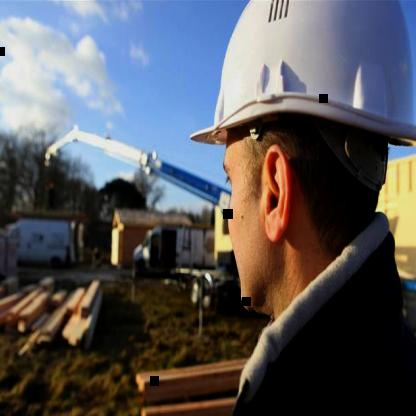helmet: (184, 0, 416, 154)
